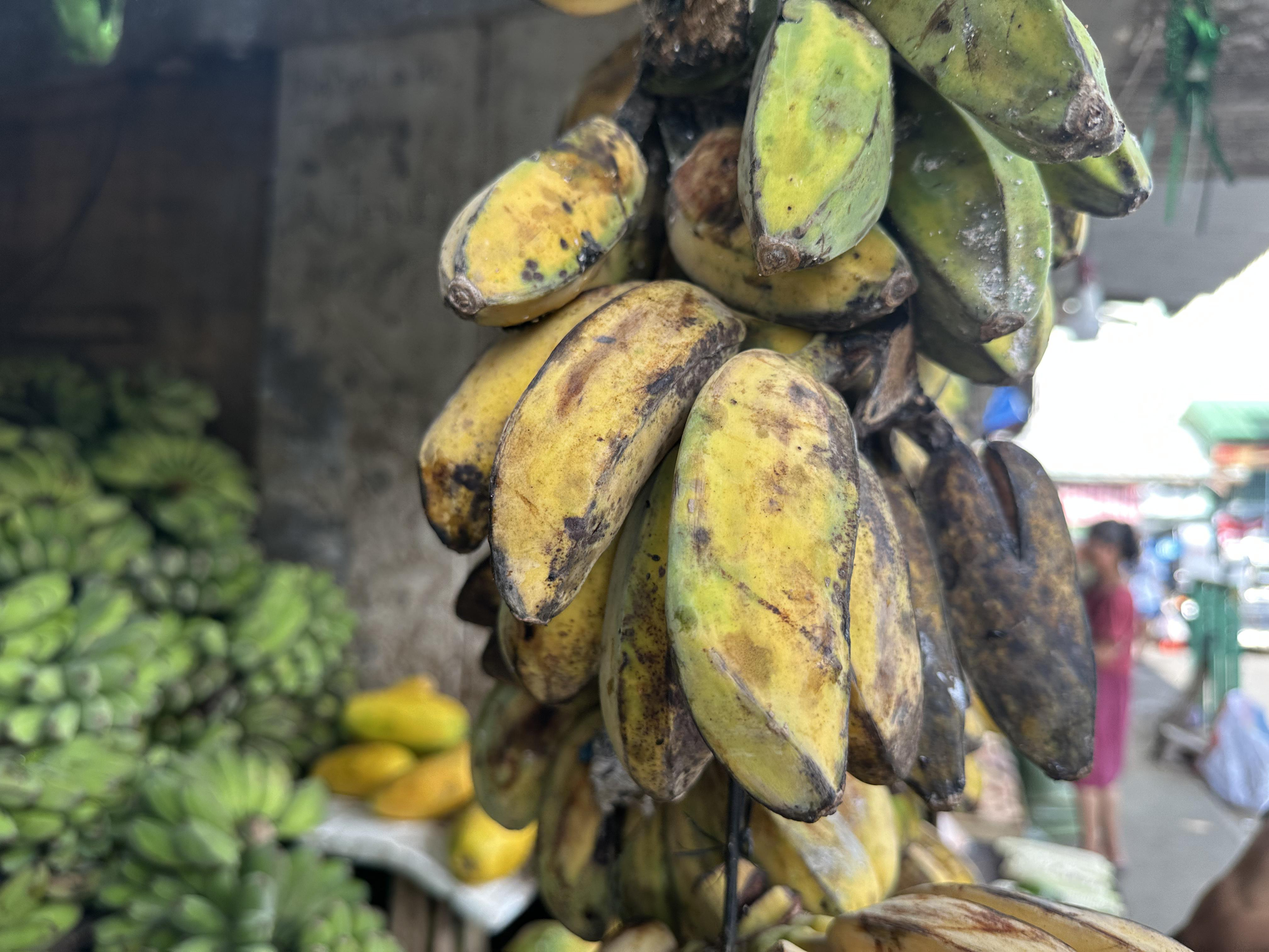ripe: (415, 279, 1097, 824)
underripe: (666, 0, 1155, 388)
